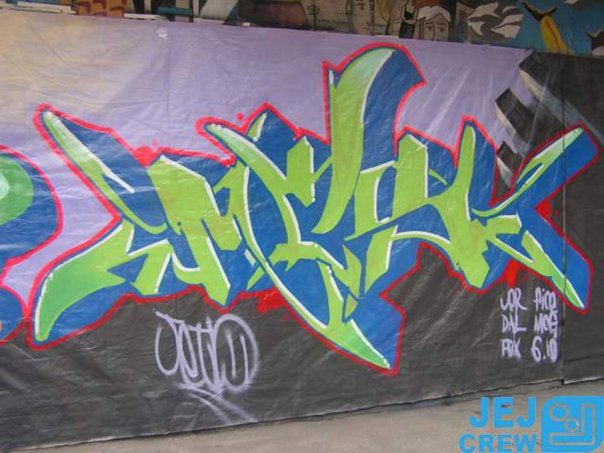graffity: (3, 39, 599, 408), (149, 307, 271, 425), (495, 276, 562, 369)
